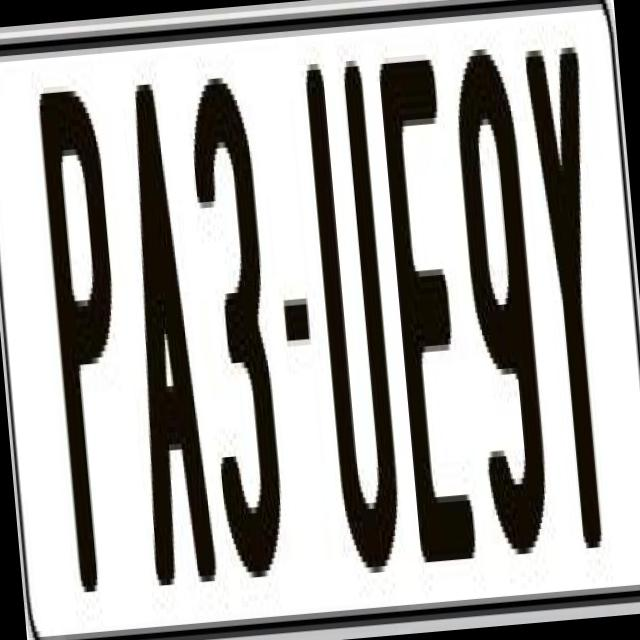3: (182, 75, 294, 615)
9: (446, 41, 550, 574)
A: (111, 76, 224, 592)
E: (373, 58, 481, 580)
P: (38, 82, 146, 592)
U: (302, 53, 410, 580)
Y: (524, 46, 632, 562)
